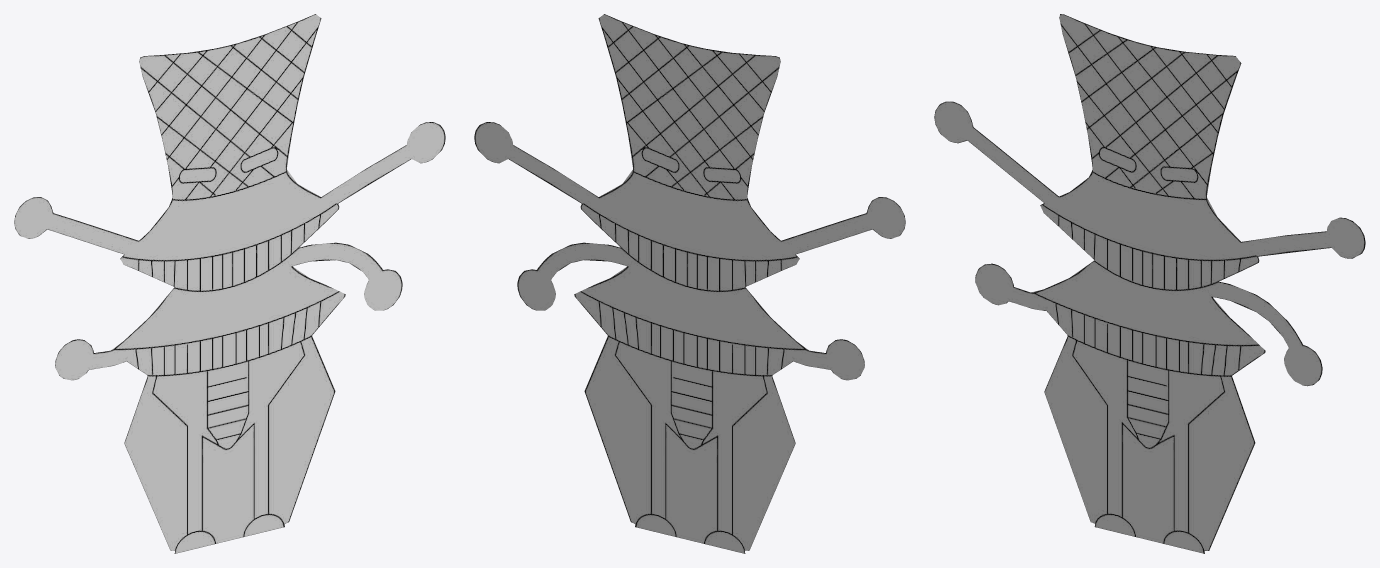
Rendered from 6_mugyul_fix.fbx.
3 views of the same model, side by side, from view 1: azimuth 30°, elevation 25°; view 2: azimuth 150°, elevation 25°; view 3: azimuth 330°, elevation 25° (orthographic).
Visible parts, largest first — view 1: erer4; view 2: erer4; view 3: erer4.
Boxes of the visible parts, left/top/right/bottom form: erer4: left=14, top=14, right=445, bottom=553; erer4: left=474, top=14, right=905, bottom=553; erer4: left=934, top=14, right=1365, bottom=553.
Bounding box in the file's own units: 10.78 × 12.07 × 5.28e-07.
Materials: 1 (1 with a texture image).
